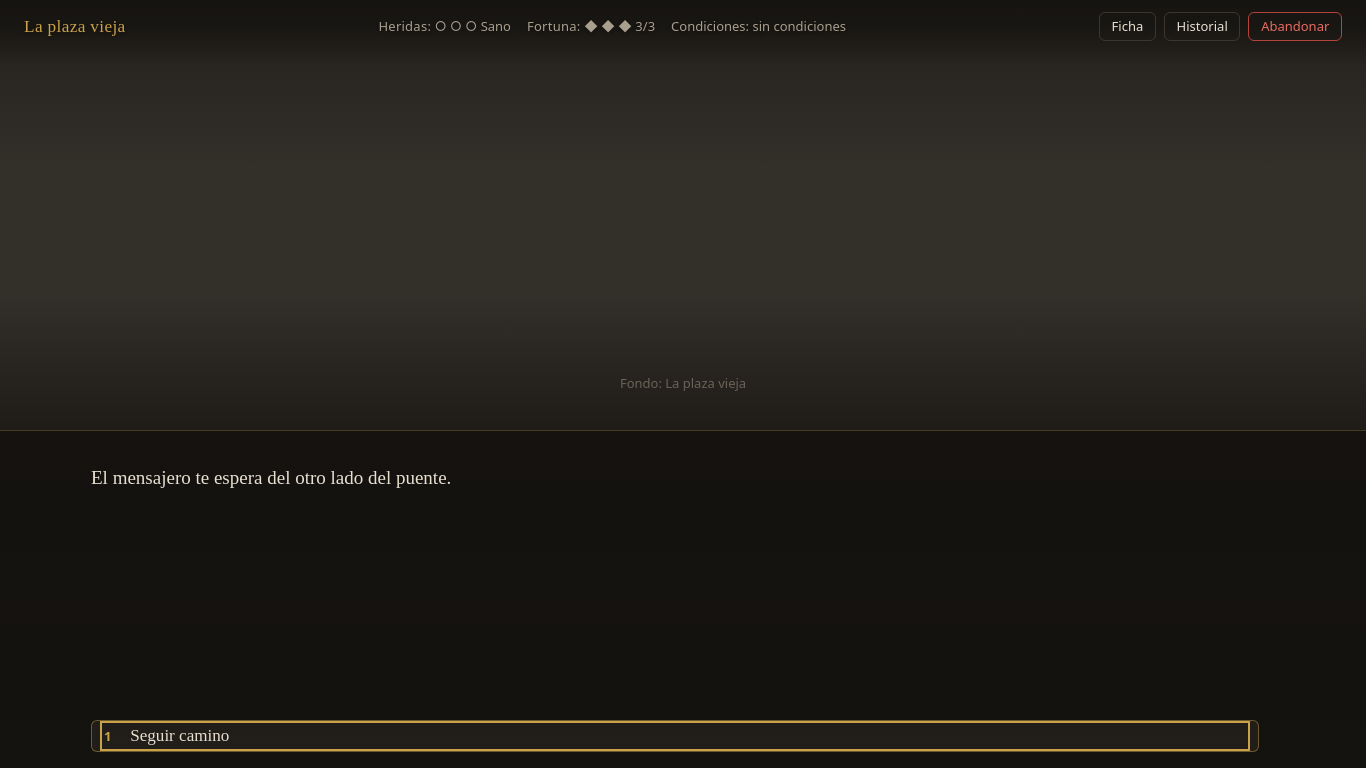
Test: EscenaScreen — el historial detrás de un botón › el botón Historial abre el cajón, y ahí sí están las entradas anteriores
Click the button "Historial" at [1202, 27], box [1164,12,1240,41]
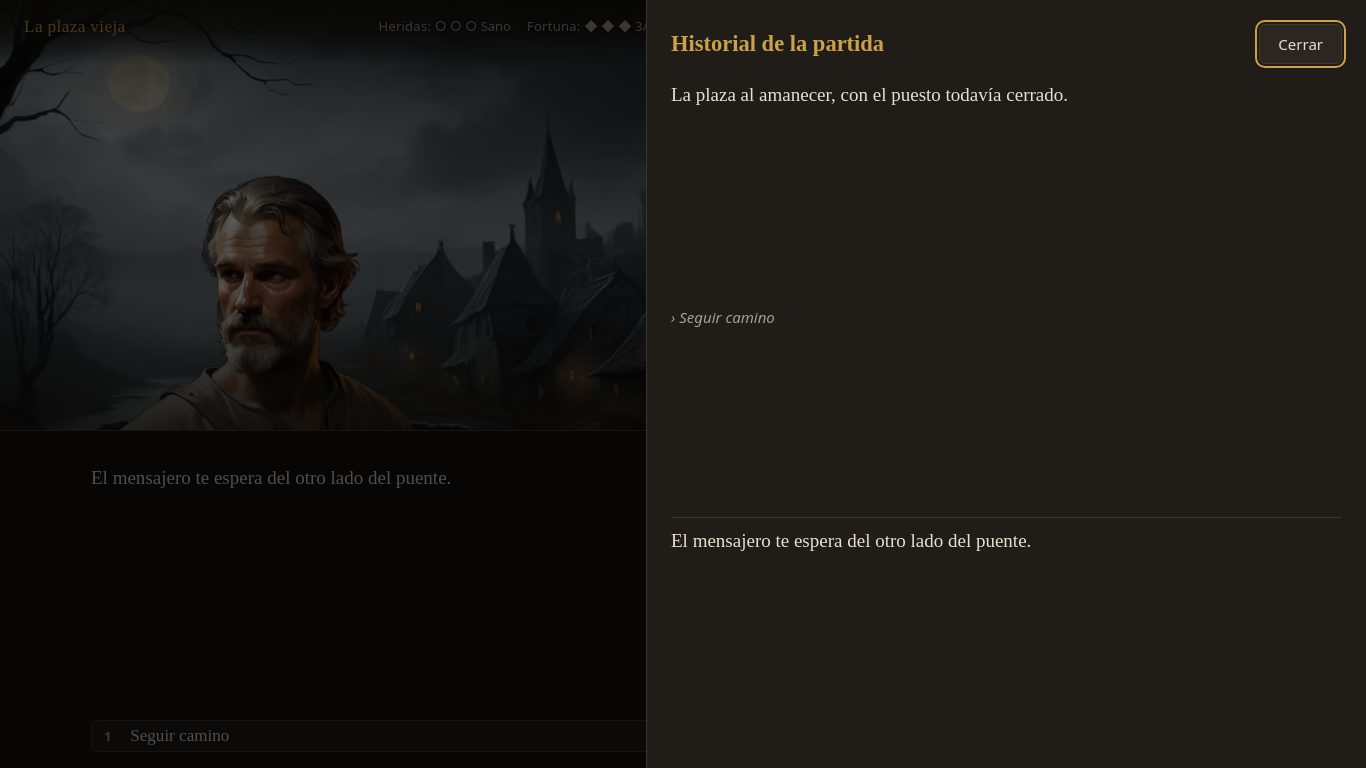
Expected: the element with test id "historial" shows "La plaza al amanecer, con el puesto todavía cerrado.", [671,84,1068,104]
Expected: the element with test id "historial" shows "› Seguir camino", [671,308,775,328]
Expected: the element with test id "historial" shows "El mensajero te espera del otro lado del puente.", [671,530,1031,551]
